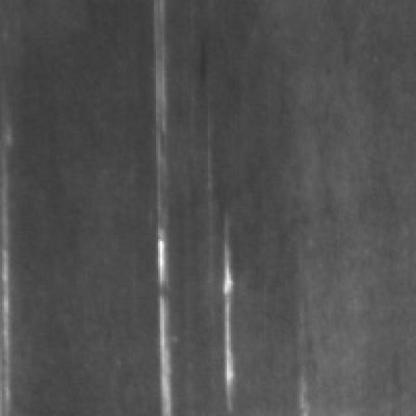scratches: (218, 222, 246, 410), (154, 218, 181, 412)
